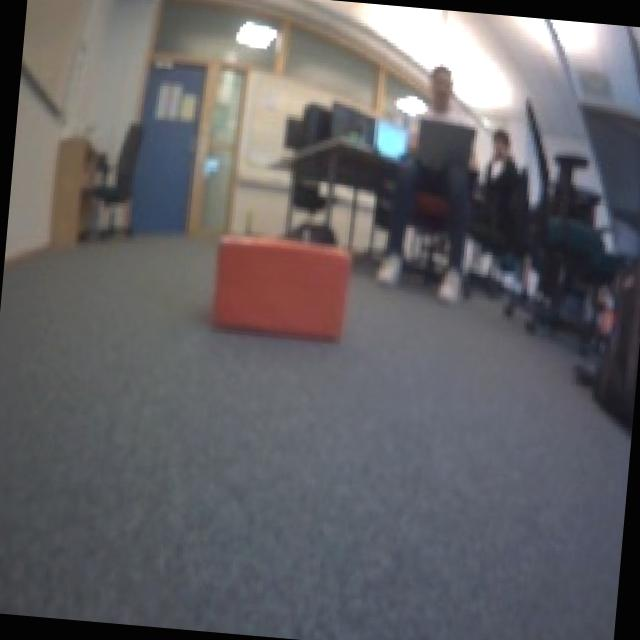target: (204, 225, 353, 342)
